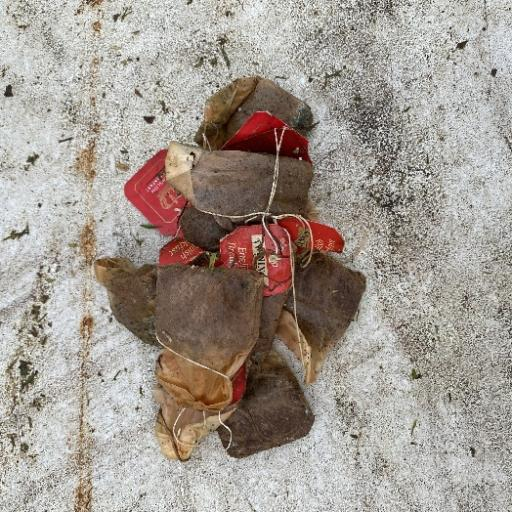Waste: (93, 74, 353, 461)
